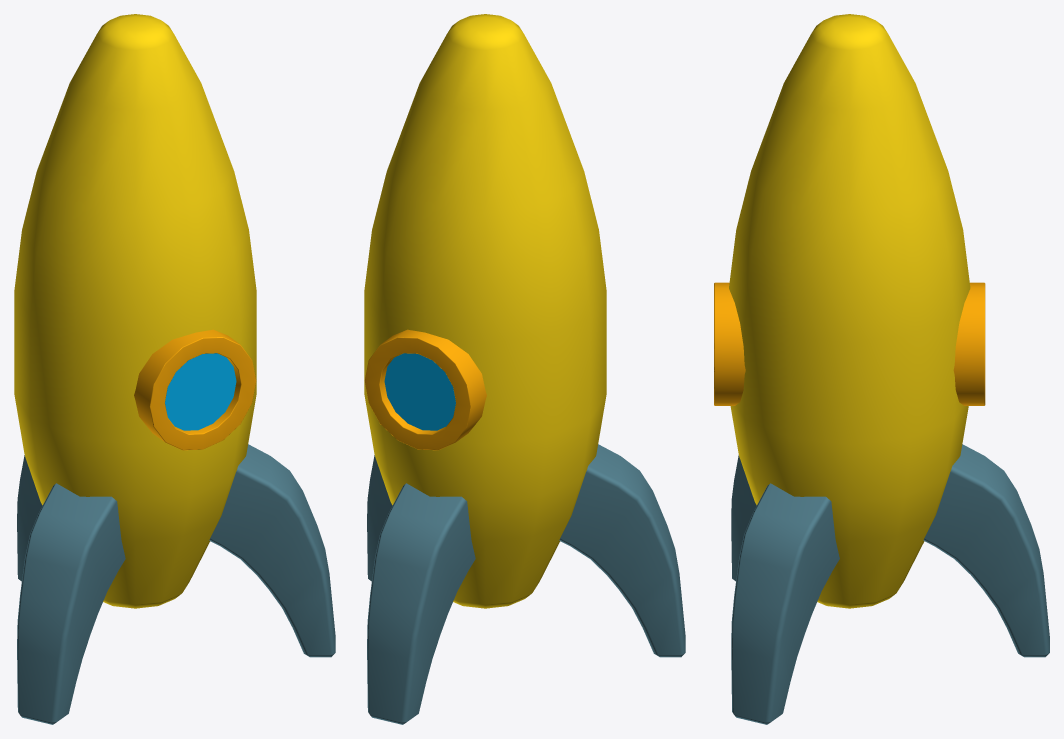
File: Store_9_Toy_Rocket.glb
The picture shows the model from 3 angles, left to right: view 1: azimuth 30°, elevation 25°; view 2: azimuth 150°, elevation 25°; view 3: azimuth 270°, elevation 25°; orthographic projection.
Visible parts, largest first — view 1: Store_9_Toy_Rocket; view 2: Store_9_Toy_Rocket; view 3: Store_9_Toy_Rocket.
Part boxes in pixels (box(x1,y1,x2,y2)): Store_9_Toy_Rocket: box(14, 14, 335, 724); Store_9_Toy_Rocket: box(364, 14, 685, 724); Store_9_Toy_Rocket: box(714, 14, 1049, 724).
Size of the model in its own units: 2.01 by 3.8 by 1.85.
Materials: 1 (1 with a texture image).
